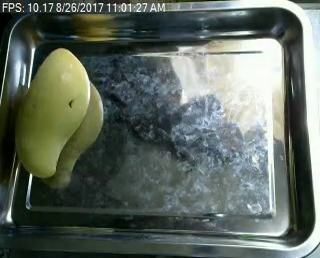Mango: (15, 38, 93, 182)
